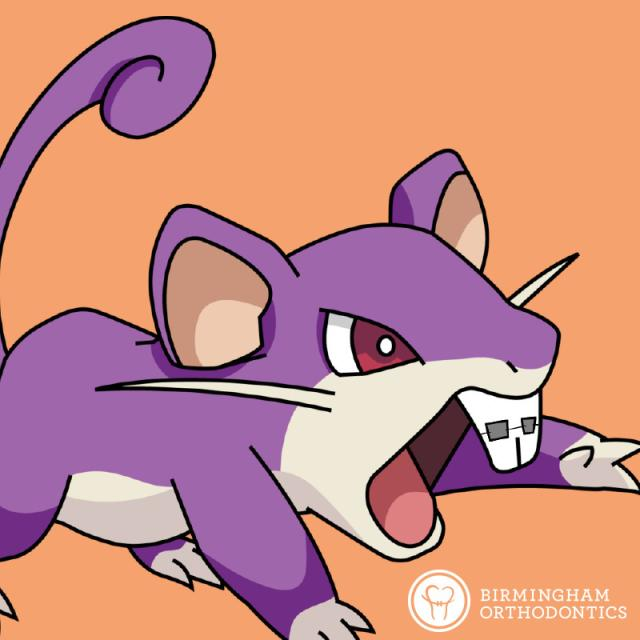Rattata: (0, 157, 640, 573)
